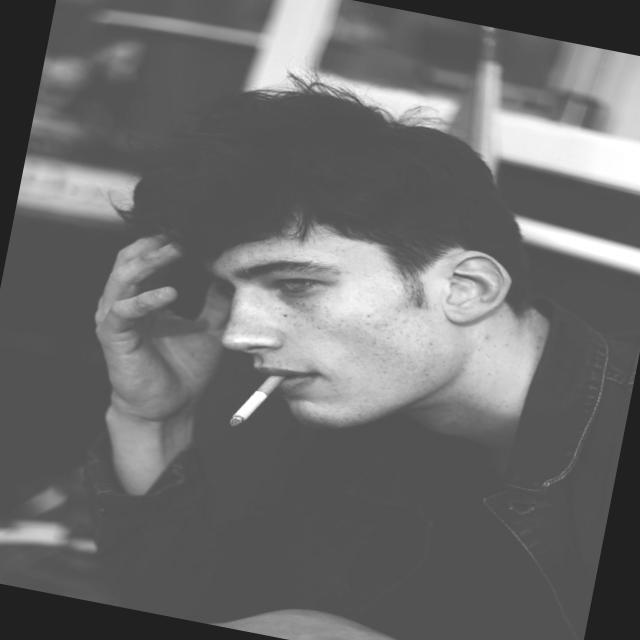smoke: (232, 360, 302, 435)
